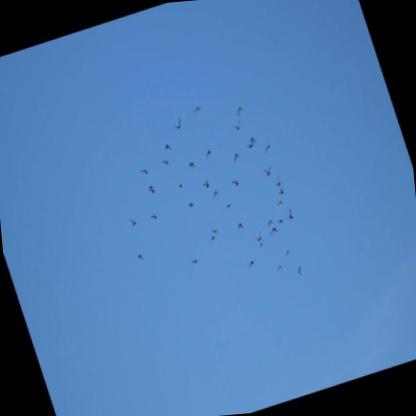bird: (283, 205, 296, 222), (127, 213, 141, 228), (171, 116, 184, 132), (231, 118, 244, 132), (271, 175, 283, 190), (192, 103, 205, 116), (253, 227, 266, 240), (262, 164, 274, 178), (211, 187, 222, 202), (262, 142, 274, 155), (235, 104, 246, 118), (209, 225, 221, 237), (188, 257, 200, 269), (257, 237, 269, 249), (276, 263, 287, 276), (296, 265, 307, 278), (136, 249, 145, 264), (162, 142, 173, 154), (247, 134, 258, 146), (200, 179, 211, 191), (275, 198, 286, 210), (247, 258, 258, 270), (161, 157, 172, 168), (140, 167, 151, 178), (245, 141, 256, 152), (224, 200, 235, 211), (234, 221, 245, 232), (282, 247, 293, 258), (277, 185, 287, 197), (186, 160, 196, 171), (149, 210, 159, 221), (185, 201, 196, 211), (266, 218, 276, 229), (270, 226, 280, 237), (205, 149, 214, 161), (232, 152, 241, 164), (232, 177, 241, 188), (148, 188, 157, 197), (208, 233, 217, 242), (276, 215, 285, 224), (147, 184, 155, 192), (177, 182, 184, 189)
